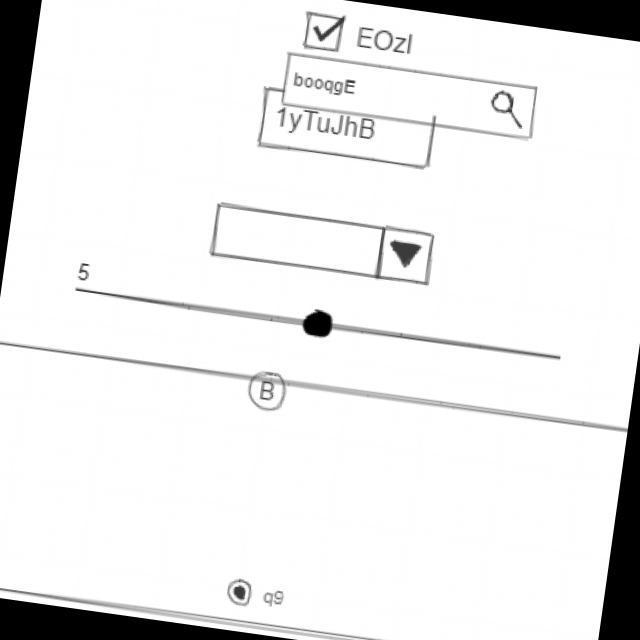checkbox: (301, 10, 419, 68)
container: (1, 337, 629, 640)
icon-button: (246, 368, 292, 416)
input: (256, 84, 442, 173)
radio: (223, 576, 289, 615)
search: (279, 50, 545, 146)
select: (207, 200, 440, 291)
slider: (95, 277, 567, 374)
